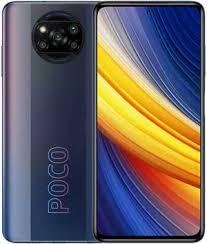Smartphone: (99, 3, 200, 242), (2, 0, 100, 240)
